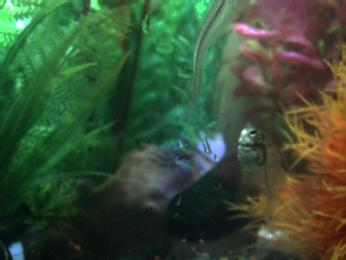X-ray fish: (235, 121, 285, 212)
glassfish: (186, 1, 234, 116)
